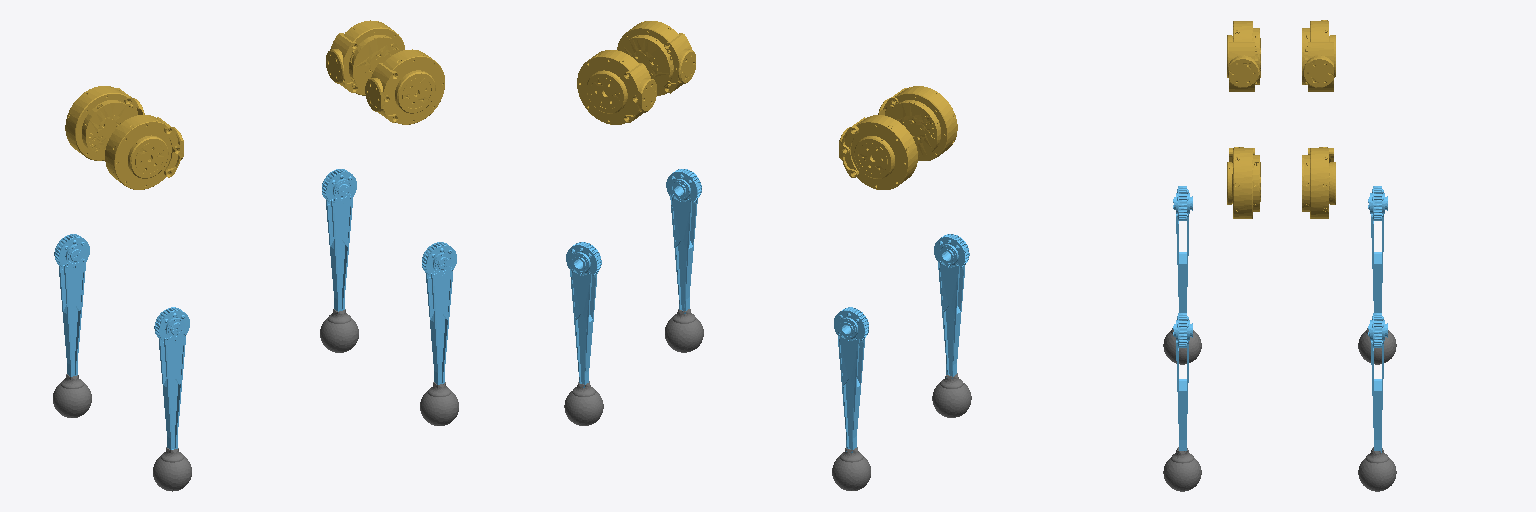
--- What the picture shows (computed from the rendered views, not written in the file) ---
Views: 3 orthographic renders of the robot side by side, from view 1: azimuth 30°, elevation 25°; view 2: azimuth 150°, elevation 25°; view 3: azimuth 270°, elevation 25°.
Robot: yobotics_description — 25 links, 24 joints (12 revolute, 12 fixed); root link trunk; default pose: every joint at zero.
Links seen in each view (by area): view 1: RR_hip, FR_hip, FL_hip, RL_hip, RR_calf, RL_calf, FR_calf, FL_calf, RR_foot, FL_foot, FR_foot, RL_foot; view 2: RL_hip, FL_hip, FR_hip, RR_hip, FR_calf, RL_calf, RR_calf, FL_calf, RR_foot, FL_foot, FR_foot, RL_foot; view 3: FL_hip, FR_hip, RL_hip, RR_hip, FL_calf, FR_calf, RL_calf, RR_calf, FR_foot, FL_foot, RR_foot, RL_foot.
Link boxes in pixels (x1,y1,x2,y2): RR_hip: [105, 115, 183, 189]; FR_hip: [365, 49, 444, 124]; FL_hip: [326, 20, 404, 95]; RL_hip: [65, 86, 144, 160]; RR_calf: [154, 307, 189, 449]; RL_calf: [54, 234, 89, 376]; FR_calf: [422, 242, 456, 384]; FL_calf: [322, 169, 356, 311]; RR_foot: [153, 447, 191, 491]; FL_foot: [320, 309, 358, 352]; FR_foot: [420, 382, 458, 425]; RL_foot: [53, 374, 91, 417]; RL_hip: [839, 115, 917, 189]; FL_hip: [577, 50, 656, 124]; FR_hip: [617, 21, 695, 95]; RR_hip: [878, 86, 957, 160]; FR_calf: [666, 169, 701, 313]; RL_calf: [834, 307, 868, 452]; RR_calf: [934, 234, 969, 378]; FL_calf: [566, 242, 601, 387]; RR_foot: [932, 373, 971, 417]; FL_foot: [564, 381, 603, 425]; FR_foot: [665, 309, 703, 352]; RL_foot: [832, 447, 870, 490]; FL_hip: [1302, 147, 1335, 218]; FR_hip: [1227, 147, 1260, 218]; RL_hip: [1302, 20, 1335, 91]; RR_hip: [1227, 21, 1260, 91]; FL_calf: [1368, 313, 1387, 452]; FR_calf: [1173, 313, 1192, 450]; RL_calf: [1368, 186, 1387, 312]; RR_calf: [1173, 186, 1192, 312]; FR_foot: [1163, 447, 1201, 491]; FL_foot: [1358, 447, 1396, 491]; RR_foot: [1163, 328, 1201, 364]; RL_foot: [1358, 328, 1396, 364].
Size in the robot's own frame: 0.4856 by 0.3042 by 0.4881 metres.
12 mesh visuals loaded from 7 distinct referenced files (3 binary STL); not drawn: 7 (reference not matched to a file when rendering).

URDF robot description (yobotics_description):
<?xml version="1.0" encoding="utf-8"?>
<!-- =================================================================================== -->
<!-- |    This document was autogenerated by xacro from ../xacro/robot.xacro           | -->
<!-- |    EDITING THIS FILE BY HAND IS NOT RECOMMENDED                                 | -->
<!-- =================================================================================== -->
<robot name="yobotics_description">
  <!-- joint limits -->
  <!-- <xacro:property name="damping" value="0"/>
    <xacro:property name="friction" value="0"/>
    <xacro:property name="hip_max" value="120"/>
    <xacro:property name="hip_min" value="-120"/>
    <xacro:property name="hip_velocity_max" value="52.4"/>
    <xacro:property name="hip_torque_max" value="20"/>
    <xacro:property name="thigh_max" value="270"/>
    <xacro:property name="thigh_min" value="-270"/>
    <xacro:property name="thigh_velocity_max" value="28.6"/>
    <xacro:property name="thigh_torque_max" value="55"/>
    <xacro:property name="calf_max" value="155"/>
    <xacro:property name="calf_min" value="-155"/>
    <xacro:property name="calf_velocity_max" value="28.6"/>
    <xacro:property name="calf_torque_max" value="55"/> -->
  <material name="black">
    <color rgba="0.0 0.0 0.0 1.0"/>
  </material>
  <material name="blue">
    <color rgba="0.0 0.0 0.8 1.0"/>
  </material>
  <material name="green">
    <color rgba="0.0 0.8 0.0 1.0"/>
  </material>
  <material name="grey">
    <color rgba="0.2 0.2 0.2 1.0"/>
  </material>
  <material name="silver">
    <color rgba="0.913725490196 0.913725490196 0.847058823529 1.0"/>
  </material>
  <material name="orange">
    <color rgba="1.0 0.423529411765 0.0392156862745 1.0"/>
  </material>
  <material name="brown">
    <color rgba="0.870588235294 0.811764705882 0.764705882353 1.0"/>
  </material>
  <material name="white_gray">
    <color rgba="0.823529411765 0.823529411765 0.823529411765 1.0"/>
  </material>
  <material name="gold">
    <color rgba="0.811764705882 0.678431372549 0.301960784314 1.0"/>
  </material>
  <material name="white_blue">
    <color rgba="0.462745098039 0.8 0.992156862745 1.0"/>
  </material>
  <material name="white_black">
    <color rgba="0.494117647059 0.494117647059 0.494117647059 1.0"/>
  </material>
  <material name="red">
    <color rgba="0.8 0.0 0.0 1.0"/>
  </material>
  <material name="white">
    <color rgba="1.0 1.0 1.0 1.0"/>
  </material>
  <!-- ros_control plugin -->
  <gazebo>
    <plugin filename="libgazebo_ros_control.so" name="gazebo_ros_control">
      <robotNamespace>/yobotics_gazebo</robotNamespace>
      <robotSimType>gazebo_ros_control/DefaultRobotHWSim</robotSimType>
    </plugin>
  </gazebo>
  <!-- Show the trajectory of trunk center. -->
  <gazebo>
    <plugin filename="libLinkPlot3DPlugin.so" name="3dplot">
      <frequency>10</frequency>
      <plot>
        <link>base</link>
        <pose>0 0 0 0 0 0</pose>
        <material>Gazebo/Yellow</material>
      </plot>
    </plugin>
  </gazebo>
  <gazebo>
    <plugin filename="libgazebo_ros_force.so" name="gazebo_ros_force">
      <bodyName>trunk</bodyName>
      <topicName>/apply_force/trunk</topicName>
    </plugin>
  </gazebo>
  <!-- <gazebo reference="imu_link">
        <gravity>true</gravity>
        <sensor name="_sensor" type="imu">
            <always_on>true</always_on>
            <update_rate>1000</update_rate>
            <visualize>true</visualize>
            <topic>__default_topic__</topic>
            <plugin filename="libgazebo_ros_imu_sensor.so" name="imu_plugin">
                <topicName>yobotic_imu</topicName>
                <bodyName>imu_link</bodyName>
                <updateRateHZ>1000.0</updateRateHZ>
                <gaussianNoise>0.0</gaussianNoise>
                <xyzOffset>0 0 0</xyzOffset>
                <rpyOffset>0 0 0</rpyOffset>
                <frameName>imu_link</frameName>
            </plugin>
            <pose>0 0 0 0 0 0</pose>
        </sensor>
    </gazebo> -->
  <gazebo>
    <plugin filename="libgazebo_ros_p3d.so" name="p3d_base_controller">
      <alwaysOn>true</alwaysOn>
      <updateRate>50.0</updateRate>
      <bodyName>trunk</bodyName>
      <topicName>yobotics_gazebo_ground_truth</topicName>
      <gaussianNoise>0.01</gaussianNoise>
      <frameName>world</frameName>
      <xyzOffsets>0 0 0</xyzOffsets>
      <rpyOffsets>0 0 0</rpyOffsets>
    </plugin>
  </gazebo>
  <gazebo>
    <plugin filename="libgazebo_ros_control.so" name="gazebo_ros_control">
      <legacyModeNS>true</legacyModeNS>
    </plugin>
  </gazebo>
  <!-- Foot contacts. -->
  <!-- <gazebo reference="FR_calf">
        <sensor name="FR_foot_contact" type="contact">
        <update_rate>100</update_rate>
        <plugin name="contactPlugin" filename="libyoboticsFootContactPlugin.so"/>
        <contact>
            <collision>FR_calf_fixed_joint_lump__FR_foot_collision_1</collision>
        </contact>
        </sensor>
    </gazebo>
    <gazebo reference="FL_calf">
        <sensor name="FL_foot_contact" type="contact">
        <update_rate>100</update_rate>
        <plugin name="contactPlugin" filename="libyoboticsFootContactPlugin.so"/>
        <contact>
            <collision>FL_calf_fixed_joint_lump__FL_foot_collision_1</collision>
        </contact>
        </sensor>
    </gazebo>
    <gazebo reference="RR_calf">
        <sensor name="RR_foot_contact" type="contact">
        <update_rate>100</update_rate>
        <plugin name="contactPlugin" filename="libyoboticsFootContactPlugin.so"/>
        <contact>
            <collision>RR_calf_fixed_joint_lump__RR_foot_collision_1</collision>
        </contact>
        </sensor>
    </gazebo>
    <gazebo reference="RL_calf">
        <sensor name="RL_foot_contact" type="contact">
        <update_rate>100</update_rate>
        <plugin name="contactPlugin" filename="libyoboticsFootContactPlugin.so"/>
        <contact>
            <collision>RL_calf_fixed_joint_lump__RL_foot_collision_1</collision>
        </contact>
        </sensor>
    </gazebo>   -->
  <!-- Visualization of Foot contacts. -->
  <!-- <gazebo reference="FR_foot">
        <visual>
            <plugin name="drawForcePlugin" filename="libyoboticsDrawForcePlugin.so">
                <topicName>FR_foot_contact</topicName>
            </plugin>
        </visual>
    </gazebo>
    <gazebo reference="FL_foot">
        <visual>
            <plugin name="drawForcePlugin" filename="libyoboticsDrawForcePlugin.so">
                <topicName>FL_foot_contact</topicName>
            </plugin>
        </visual>
    </gazebo>
    <gazebo reference="RR_foot">
        <visual>
            <plugin name="drawForcePlugin" filename="libyoboticsDrawForcePlugin.so">
                <topicName>RR_foot_contact</topicName>
            </plugin>
        </visual>
    </gazebo>
    <gazebo reference="RL_foot">
        <visual>
            <plugin name="drawForcePlugin" filename="libyoboticsDrawForcePlugin.so">
                <topicName>RL_foot_contact</topicName>
            </plugin>
        </visual>
    </gazebo>  -->
  <gazebo reference="base">
    <material>Gazebo/Green</material>
    <turnGravityOff>false</turnGravityOff>
  </gazebo>
  <gazebo reference="trunk">
    <mu1>0.9</mu1>
    <mu2>0.9</mu2>
    <kp value="1000000.0"/>
    <kd value="1.0"/>
  </gazebo>
  <gazebo reference="stick_link">
    <mu1>0.9</mu1>
    <mu2>0.9</mu2>
    <material>Gazebo/White</material>
  </gazebo>
  <gazebo reference="imu_link">
    <mu1>0.9</mu1>
    <mu2>0.9</mu2>
    <material>Gazebo/Red</material>
  </gazebo>
  <!-- FL leg -->
  <gazebo reference="FL_hip">
    <mu1>0.9</mu1>
    <mu2>0.9</mu2>
    <!-- <material>Gazebo/DarkGrey</material> -->
  </gazebo>
  <gazebo reference="FL_thigh">
    <mu1>0.9</mu1>
    <mu2>0.9</mu2>
    <self_collide>1</self_collide>
    <material>Gazebo/White</material>
    <kp value="1000000.0"/>
    <kd value="1.0"/>
  </gazebo>
  <gazebo reference="FL_calf">
    <mu1>0.9</mu1>
    <mu2>0.9</mu2>
    <self_collide>1</self_collide>
  </gazebo>
  <gazebo reference="FL_foot">
    <mu1>0.9</mu1>
    <mu2>0.9</mu2>
    <self_collide>1</self_collide>
    <material>Gazebo/DarkGrey</material>
    <kp value="1000000.0"/>
    <kd value="1.0"/>
  </gazebo>
  <!-- FR leg -->
  <gazebo reference="FR_hip">
    <mu1>0.9</mu1>
    <mu2>0.9</mu2>
    <!-- <material>Gazebo/DarkGrey</material> -->
  </gazebo>
  <gazebo reference="FR_thigh">
    <mu1>0.9</mu1>
    <mu2>0.9</mu2>
    <self_collide>1</self_collide>
    <material>Gazebo/White</material>
    <kp value="1000000.0"/>
    <kd value="1.0"/>
  </gazebo>
  <gazebo reference="FR_calf">
    <mu1>0.9</mu1>
    <mu2>0.9</mu2>
    <self_collide>1</self_collide>
  </gazebo>
  <gazebo reference="FR_foot">
    <mu1>0.9</mu1>
    <mu2>0.9</mu2>
    <self_collide>1</self_collide>
    <material>Gazebo/DarkGrey</material>
    <kp value="1000000.0"/>
    <kd value="1.0"/>
  </gazebo>
  <!-- RL leg -->
  <gazebo reference="RL_hip">
    <mu1>0.9</mu1>
    <mu2>0.9</mu2>
    <!-- <material>Gazebo/DarkGrey</material> -->
  </gazebo>
  <gazebo reference="RL_thigh">
    <mu1>0.9</mu1>
    <mu2>0.9</mu2>
    <self_collide>1</self_collide>
    <material>Gazebo/White</material>
    <kp value="1000000.0"/>
    <kd value="1.0"/>
  </gazebo>
  <gazebo reference="RL_calf">
    <mu1>0.9</mu1>
    <mu2>0.9</mu2>
    <self_collide>1</self_collide>
  </gazebo>
  <gazebo reference="RL_foot">
    <mu1>0.9</mu1>
    <mu2>0.9</mu2>
    <self_collide>1</self_collide>
    <material>Gazebo/DarkGrey</material>
    <kp value="1000000.0"/>
    <kd value="1.0"/>
  </gazebo>
  <!-- RR leg -->
  <gazebo reference="RR_hip">
    <mu1>0.9</mu1>
    <mu2>0.9</mu2>
    <!-- <material>Gazebo/Gold</material> -->
  </gazebo>
  <gazebo reference="RR_thigh">
    <mu1>0.9</mu1>
    <mu2>0.9</mu2>
    <self_collide>1</self_collide>
    <material>Gazebo/White</material>
    <kp value="1000000.0"/>
    <kd value="1.0"/>
  </gazebo>
  <gazebo reference="RR_calf">
    <mu1>0.9</mu1>
    <mu2>0.9</mu2>
    <self_collide>1</self_collide>
  </gazebo>
  <gazebo reference="RR_foot">
    <mu1>0.9</mu1>
    <mu2>0.9</mu2>
    <self_collide>1</self_collide>
    <material>Gazebo/DarkGrey</material>
    <kp value="1000000.0"/>
    <kd value="1.0"/>
  </gazebo>
  <!-- Debug mode will hung up the robot, use "true" or "false" to switch it. -->
  <!-- <link name="base_link">
        <visual>
            <origin rpy="0 0 0" xyz="0 0 0"/>
            <geometry>
                <box size="0.001 0.001 0.001"/>
            </geometry>
        </visual>
    </link>

    <joint name="floating_base" type="fixed">
        <origin rpy="0 0 0" xyz="0 0 0"/>
        <parent link="base_link"/>
        <child link="trunk"/>
    </joint> -->
  <link name="trunk"/>
  <link name="trunk_interia">
    <visual>
      <origin rpy="0 0 0" xyz="0 0 0"/>
      <geometry>
        <mesh filename="package://yobotics_description/meshes/trunk.STL" scale="1 1 1"/>
      </geometry>
      <material name="white_gray"/>
    </visual>
    <collision>
      <origin rpy="0 0 0" xyz="0 0 0"/>
      <geometry>
        <!-- <mesh filename="package://yobotics_description/meshes/trunk.STL" scale="1 1 1"/> -->
        <box size="0.3 0.2 0.093"/>
      </geometry>
    </collision>
    <inertial>
      <origin rpy="0 0 0" xyz="0.0 0.0 0.0"/>
      <mass value="3.3"/>
      <inertia ixx="0.011253" ixy="0" ixz="0.0" iyy="0.036203" iyz="-0.0" izz="0.042673"/>
    </inertial>
  </link>
  <joint name="trunk_to_trunk_inertia" type="fixed">
    <origin rpy="0 0 0" xyz="0 0 0"/>
    <parent link="trunk"/>
    <child link="trunk_interia"/>
  </joint>
  <!-- 
    <joint name="imu_joint" type="fixed">
        <parent link="trunk"/>
        <child link="imu_link"/>
        <origin rpy="0 0 0" xyz="0 0 0"/>
    </joint>

    <link name="imu_link">
        <inertial>
            <mass value="0.001"/>
            <origin rpy="0 0 0" xyz="0 0 0"/>
            <inertia ixx="0.0001" ixy="0" ixz="0" iyy="0.000001" iyz="0" izz="0.0001"/>
        </inertial>
        <visual>
            <origin rpy="0 0 0" xyz="0 0 0"/>
            <geometry>
                <box size="0.001 0.001 0.001"/>
            </geometry>
            <material name="red"/>
        </visual>
        <collision>
            <origin rpy="0 0 0" xyz="0 0 0"/>
            <geometry>
                <box size=".001 .001 .001"/>
            </geometry>
        </collision>
    </link> -->
  <!-- //////////////////////hip//////////////////// -->
  <joint name="RL_hip_joint" type="revolute">
    <!-- <joint name="${name}_hip_joint" type="continuous"> -->
    <origin rpy="0 0 0" xyz="-0.196 0.049664 0"/>
    <parent link="trunk"/>
    <child link="RL_hip"/>
    <axis xyz="1 0 0"/>
    <dynamics damping="0" friction="0"/>
    <limit effort="20" lower="-0.872664625997" upper="1.0471975512" velocity="10.6"/>
  </joint>
  <link name="RL_hip">
    <visual>
      <origin rpy="3.14159265359 0 0" xyz="0 0 0"/>
      <geometry>
        <mesh filename="package://yobotics_description/meshes/hip.STL" scale="1 1 1"/>
      </geometry>
      <material name="gold"/>
    </visual>
    <collision>
      <!-- <origin rpy="${PI/2.0} 0 0" xyz="0 0 0"/> -->
      <!-- <xacro:if value="${(mirror_dae == True) and (front_hind_dae == True)}">
                    <origin rpy="0 0 0" xyz="0 0 0"/>
                </xacro:if>
                <xacro:if value="${(mirror_dae == False) and (front_hind_dae == True)}">
                    <origin rpy="${PI} 0 0" xyz="0 0 0"/>
                </xacro:if>
                <xacro:if value="${(mirror_dae == True) and (front_hind_dae == False)}">
                    <origin rpy="0 ${PI} 0" xyz="0 0 0"/>
                </xacro:if>
                <xacro:if value="${(mirror_dae == False) and (front_hind_dae == False)}">
                    <origin rpy="${PI} ${PI} 0" xyz="0 0 0"/>
                </xacro:if> -->
      <geometry>
        <!-- <mesh filename="package://yobotics_description/meshes/hip.STL" scale="1 1 1"/> -->
        <box size="0.09 0.08 0.093"/>
      </geometry>
    </collision>
    <inertial>
      <origin rpy="0 0 0" xyz="0.0 -0.036 0.0"/>
      <mass value="0.57"/>
      <inertia ixx="0.0007148275" ixy="0.0" ixz="0.0" iyy="0.0007955775" iyz="0.0" izz="0.00068875"/>
    </inertial>
  </link>
  <!-- //////////////////////thigh//////////////////// -->
  <joint name="RL_thigh_joint" type="revolute">
    <!-- <joint name="${name}_thigh_joint" type="continuous"> -->
    <origin rpy="0 0 0" xyz="0 0.077476 0"/>
    <parent link="RL_hip"/>
    <child link="RL_thigh"/>
    <axis xyz="0 1 0"/>
    <dynamics damping="0" friction="0"/>
    <limit effort="20" lower="-0.523598775598" upper="3.92699081699" velocity="10.6"/>
  </joint>
  <link name="RL_thigh">
    <visual>
      <origin rpy="3.14159265359 3.14159265359 0" xyz="0 0 0"/>
      <geometry>
        <mesh filename="package://yobotics_description/meshes/thigh.STL" scale="1 1 1"/>
      </geometry>
      <material name="white_blue"/>
    </visual>
    <collision>
      <!-- <xacro:if value="${mirror_dae == True}">
                    <origin rpy="0 0 0" xyz="0 0 0"/>                 
                </xacro:if>
                <xacro:if value="${mirror_dae == False}">
                    <origin rpy="${PI} ${PI} 0" xyz="0 0 0"/>
                </xacro:if> -->
      <origin rpy="0 0 0" xyz="0 0 -0.11"/>
      <geometry>
        <box size="0.043 0.034 0.22"/>
        <!-- <mesh filename="package://yobotics_description/meshes/thigh.STL" scale="1 1 1"/> -->
      </geometry>
      <material name="white_blue"/>
    </collision>
    <inertial>
      <origin rpy="0 0 0" xyz="0.0 -0.016 -0.11"/>
      <mass value="0.634"/>
      <inertia ixx="0.00261820866667" ixy="0.0" ixz="0.0" iyy="0.00265482216667" iyz="0.0" izz="0.000158764166667"/>
    </inertial>
  </link>
  <!-- //////////////////////calf//////////////////// -->
  <joint name="RL_calf_joint" type="revolute">
    <!-- <joint name="${name}_calf_joint" type="continuous"> -->
    <origin rpy="0 0 0" xyz="0 0 -0.2115"/>
    <parent link="RL_thigh"/>
    <child link="RL_calf"/>
    <axis xyz="0 1 0"/>
    <dynamics damping="0" friction="0"/>
    <!-- <limit effort="${calf_torque_max}" velocity="${calf_velocity_max}" lower="${calf_min*PI/180.0}" upper="${calf_max*PI/180.0}"/> -->
    <limit effort="20" lower="-3.14159265359" upper="3.14159265359" velocity="10.6"/>
  </joint>
  <link name="RL_calf">
    <visual>
      <origin rpy="0 0 0" xyz="0.0 0.009 0.0"/>
      <geometry>
        <mesh filename="package://yobotics_description/meshes/calf.STL" scale="1 1 1"/>
      </geometry>
      <material name="white_blue"/>
    </visual>
    <collision>
      <origin rpy="0 0 0" xyz="0.0 0.0 -0.1"/>
      <geometry>
        <box size="0.016 0.016 0.2"/>
        <!-- <mesh filename="package://yobotics_description/meshes/calf.STL" scale="1 1 1"/> -->
      </geometry>
    </collision>
    <inertial>
      <origin rpy="0 0 0" xyz="0.0 0.0 0.0"/>
      <mass value="0.064"/>
      <inertia ixx="0.000214698666667" ixy="0.0" ixz="0.0" iyy="0.000214698666667" iyz="0.0" izz="2.73066666667e-06"/>
    </inertial>
  </link>
  <!-- //////////////////////foot//////////////////// -->
  <joint name="RL_foot_fixed" type="fixed">
    <origin rpy="0 0 0" xyz="0 0 -0.23039"/>
    <parent link="RL_calf"/>
    <child link="RL_foot"/>
  </joint>
  <link name="RL_foot">
    <visual>
      <origin rpy="0 0 0" xyz="0 0.018 0.02"/>
      <geometry>
        <mesh filename="package://yobotics_description/meshes/foot.STL" scale="1 1 1"/>
      </geometry>
      <material name="white_black"/>
    </visual>
    <collision>
      <origin rpy="0 0 0" xyz="0 0.0 0.025"/>
      <geometry>
        <!-- <mesh filename="package://yobotics_description/meshes/foot.STL" scale="1 1 1"/> -->
        <sphere radius="0.025"/>
      </geometry>
    </collision>
    <inertial>
      <origin rpy="0 0 0" xyz="0.0 0.0 0"/>
      <mass value="0.15"/>
      <inertia ixx="4.2135e-05" ixy="0.0" ixz="0.0" iyy="4.2135e-05" iyz="0.0" izz="4.2135e-05"/>
    </inertial>
  </link>
  <transmission name="RL_hip_tran">
    <type>transmission_interface/SimpleTransmission</type>
    <joint name="RL_hip_joint">
      <hardwareInterface>hardware_interface/EffortJointInterface</hardwareInterface>
    </joint>
    <actuator name="RL_hip_motor">
      <hardwareInterface>hardware_interface/EffortJointInterface</hardwareInterface>
      <mechanicalReduction>1</mechanicalReduction>
    </actuator>
  </transmission>
  <transmission name="RL_thigh_tran">
    <type>transmission_interface/SimpleTransmission</type>
    <joint name="RL_thigh_joint">
      <hardwareInterface>hardware_interface/EffortJointInterface</hardwareInterface>
    </joint>
    <actuator name="RL_thigh_motor">
      <hardwareInterface>hardware_interface/EffortJointInterface</hardwareInterface>
      <mechanicalReduction>1</mechanicalReduction>
    </actuator>
  </transmission>
  <transmission name="RL_calf_tran">
    <type>transmission_interface/SimpleTransmission</type>
    <joint name="RL_calf_joint">
      <hardwareInterface>hardware_interface/EffortJointInterface</hardwareInterface>
    </joint>
    <actuator name="RL_calf_motor">
      <hardwareInterface>hardware_interface/EffortJointInterface</hardwareInterface>
      <mechanicalReduction>1</mechanicalReduction>
    </actuator>
  </transmission>
  <!-- //////////////////////hip//////////////////// -->
  <joint name="FL_hip_joint" type="revolute">
    <!-- <joint name="${name}_hip_joint" type="continuous"> -->
    <origin rpy="0 0 0" xyz="0.196 0.049664 0"/>
    <parent link="trunk"/>
    <child link="FL_hip"/>
    <axis xyz="1 0 0"/>
    <dynamics damping="0" friction="0"/>
    <limit effort="20" lower="-0.872664625997" upper="1.0471975512" velocity="10.6"/>
  </joint>
  <link name="FL_hip">
    <visual>
      <origin rpy="3.14159265359 3.14159265359 0" xyz="0 0 0"/>
      <geometry>
        <mesh filename="package://yobotics_description/meshes/hip.STL" scale="1 1 1"/>
      </geometry>
      <material name="gold"/>
    </visual>
    <collision>
      <!-- <origin rpy="${PI/2.0} 0 0" xyz="0 0 0"/> -->
      <!-- <xacro:if value="${(mirror_dae == True) and (front_hind_dae == True)}">
                    <origin rpy="0 0 0" xyz="0 0 0"/>
                </xacro:if>
                <xacro:if value="${(mirror_dae == False) and (front_hind_dae == True)}">
                    <origin rpy="${PI} 0 0" xyz="0 0 0"/>
                </xacro:if>
                <xacro:if value="${(mirror_dae == True) and (front_hind_dae == False)}">
                    <origin rpy="0 ${PI} 0" xyz="0 0 0"/>
                </xacro:if>
                <xacro:if value="${(mirror_dae == False) and (front_hind_dae == False)}">
                    <origin rpy="${PI} ${PI} 0" xyz="0 0 0"/>
                </xacro:if> -->
      <geometry>
        <!-- <mesh filename="package://yobotics_description/meshes/hip.STL" scale="1 1 1"/> -->
        <box size="0.09 0.08 0.093"/>
      </geometry>
    </collision>
    <inertial>
      <origin rpy="0 0 0" xyz="-0.0 -0.036 0.0"/>
      <mass value="0.57"/>
      <inertia ixx="0.0007148275" ixy="0.0" ixz="0.0" iyy="0.0007955775" iyz="0.0" izz="0.00068875"/>
    </inertial>
  </link>
  <!-- //////////////////////thigh//////////////////// -->
  <joint name="FL_thigh_joint" type="revolute">
    <!-- <joint name="${name}_thigh_joint" type="continuous"> -->
    <origin rpy="0 0 0" xyz="0 0.077476 0"/>
    <parent link="FL_hip"/>
    <child link="FL_thigh"/>
    <axis xyz="0 1 0"/>
    <dynamics damping="0" friction="0"/>
    <limit effort="20" lower="-0.523598775598" upper="3.92699081699" velocity="10.6"/>
  </joint>
  <link name="FL_thigh">
    <visual>
      <origin rpy="3.14159265359 3.14159265359 0" xyz="0 0 0"/>
      <geometry>
        <mesh filename="package://yobotics_description/meshes/thigh.STL" scale="1 1 1"/>
      </geometry>
      <material name="white_blue"/>
    </visual>
    <collision>
      <!-- <xacro:if value="${mirror_dae == True}">
                    <origin rpy="0 0 0" xyz="0 0 0"/>                 
                </xacro:if>
                <xacro:if value="${mirror_dae == False}">
                    <origin rpy="${PI} ${PI} 0" xyz="0 0 0"/>
                </xacro:if> -->
      <origin rpy="0 0 0" xyz="0 0 -0.11"/>
      <geometry>
        <box size="0.043 0.034 0.22"/>
        <!-- <mesh filename="package://yobotics_description/meshes/thigh.STL" scale="1 1 1"/> -->
      </geometry>
      <material name="white_blue"/>
    </collision>
    <inertial>
      <origin rpy="0 0 0" xyz="0.0 -0.016 -0.11"/>
      <mass value="0.634"/>
      <inertia ixx="0.00261820866667" ixy="0.0" ixz="0.0" iyy="0.00265482216667" iyz="0.0" izz="0.000158764166667"/>
    </inertial>
  </link>
  <!-- //////////////////////calf//////////////////// -->
  <joint name="FL_calf_joint" type="revolute">
    <!-- <joint name="${name}_calf_joint" type="continuous"> -->
    <origin rpy="0 0 0" xyz="0 0 -0.2115"/>
    <parent link="FL_thigh"/>
    <child link="FL_calf"/>
    <axis xyz="0 1 0"/>
    <dynamics damping="0" friction="0"/>
    <!-- <limit effort="${calf_torque_max}" velocity="${calf_velocity_max}" lower="${calf_min*PI/180.0}" upper="${calf_max*PI/180.0}"/> -->
    <limit effort="20" lower="-3.14159265359" upper="3.14159265359" velocity="10.6"/>
  </joint>
  <link name="FL_calf">
    <visual>
      <origin rpy="0 0 0" xyz="0.0 0.009 0.0"/>
      <geometry>
        <mesh filename="package://yobotics_description/meshes/calf.STL" scale="1 1 1"/>
      </geometry>
      <material name="white_blue"/>
    </visual>
    <collision>
      <origin rpy="0 0 0" xyz="0.0 0.0 -0.1"/>
      <geometry>
        <box size="0.016 0.016 0.2"/>
        <!-- <mesh filename="package://yobotics_description/meshes/calf.STL" scale="1 1 1"/> -->
      </geometry>
    </collision>
    <inertial>
      <origin rpy="0 0 0" xyz="0.0 0.0 0.0"/>
      <mass value="0.064"/>
      <inertia ixx="0.000214698666667" ixy="0.0" ixz="0.0" iyy="0.000214698666667" iyz="0.0" izz="2.73066666667e-06"/>
    </inertial>
  </link>
  <!-- //////////////////////foot//////////////////// -->
  <joint name="FL_foot_fixed" type="fixed">
    <origin rpy="0 0 0" xyz="0 0 -0.23039"/>
    <parent link="FL_calf"/>
    <child link="FL_foot"/>
  </joint>
  <link name="FL_foot">
    <visual>
      <origin rpy="0 0 0" xyz="0 0.018 0.02"/>
      <geometry>
        <mesh filename="package://yobotics_description/meshes/foot.STL" scale="1 1 1"/>
      </geometry>
      <material name="white_black"/>
    </visual>
    <collision>
      <origin rpy="0 0 0" xyz="0 0.0 0.025"/>
      <geometry>
        <!-- <mesh filename="package://yobotics_description/meshes/foot.STL" scale="1 1 1"/> -->
        <sphere radius="0.025"/>
      </geometry>
    </collision>
    <inertial>
      <origin rpy="0 0 0" xyz="0.0 0.0 0"/>
      <mass value="0.15"/>
      <inertia ixx="4.2135e-05" ixy="0.0" ixz="0.0" iyy="4.2135e-05" iyz="0.0" izz="4.2135e-05"/>
    </inertial>
  </link>
  <transmission name="FL_hip_tran">
    <type>transmission_interface/SimpleTransmission</type>
    <joint name="FL_hip_joint">
      <hardwareInterface>hardware_interface/EffortJointInterface</hardwareInterface>
    </joint>
    <actuator name="FL_hip_motor">
      <hardwareInterface>hardware_interface/EffortJointInterface</hardwareInterface>
      <mechanicalReduction>1</mechanicalReduction>
    </actuator>
  </transmission>
  <transmission name="FL_thigh_tran">
    <type>transmission_interface/SimpleTransmission</type>
    <joint name="FL_thigh_joint">
      <hardwareInterface>hardware_interface/EffortJointInterface</hardwareInterface>
    </joint>
    <actuator name="FL_thigh_motor">
      <hardwareInterface>hardware_interface/EffortJointInterface</hardwareInterface>
      <mechanicalReduction>1</mechanicalReduction>
    </actuator>
  </transmission>
  <transmission name="FL_calf_tran">
    <type>transmission_interface/SimpleTransmission</type>
    <joint name="FL_calf_joint">
      <hardwareInterface>hardware_interface/EffortJointInterface</hardwareInterface>
    </joint>
    <actuator name="FL_calf_motor">
      <hardwareInterface>hardware_interface/EffortJointInterface</hardwareInterface>
      <mechanicalReduction>1</mechanicalReduction>
    </actuator>
  </transmission>
  <!-- //////////////////////hip//////////////////// -->
  <joint name="RR_hip_joint" type="revolute">
    <!-- <joint name="${name}_hip_joint" type="continuous"> -->
    <origin rpy="0 0 0" xyz="-0.196 -0.049664 0"/>
    <parent link="trunk"/>
    <child link="RR_hip"/>
    <axis xyz="1 0 0"/>
    <dynamics damping="0" friction="0"/>
    <limit effort="20" lower="-1.0471975512" upper="0.872664625997" velocity="10.6"/>
  </joint>
  <link name="RR_hip">
    <visual>
      <origin rpy="0 0 0" xyz="0 0 0"/>
      <geometry>
        <mesh filename="package://yobotics_description/meshes/hip.STL" scale="1 1 1"/>
      </geometry>
      <material name="gold"/>
    </visual>
    <collision>
      <!-- <origin rpy="${PI/2.0} 0 0" xyz="0 0 0"/> -->
      <!-- <xacro:if value="${(mirror_dae == True) and (front_hind_dae == True)}">
                    <origin rpy="0 0 0" xyz="0 0 0"/>
                </xacro:if>
                <xacro:if value="${(mirror_dae == False) and (front_hind_dae == True)}">
                    <origin rpy="${PI} 0 0" xyz="0 0 0"/>
                </xacro:if>
                <xacro:if value="${(mirror_dae == True) and (front_hind_dae == False)}">
                    <origin rpy="0 ${PI} 0" xyz="0 0 0"/>
                </xacro:if>
                <xacro:if value="${(mirror_dae == False) and (front_hind_dae == False)}">
                    <origin rpy="${PI} ${PI} 0" xyz="0 0 0"/>
                </xacro:if> -->
      <geometry>
        <!-- <mesh filename="package://yobotics_description/meshes/hip.STL" scale="1 1 1"/> -->
        <box size="0.09 0.08 0.093"/>
      </geometry>
    </collision>
    <inertial>
      <origin rpy="0 0 0" xyz="0.0 0.036 0.0"/>
      <mass value="0.57"/>
      <inertia ixx="0.0007148275" ixy="0.0" ixz="0.0" iyy="0.0007955775" iyz="0.0" izz="0.00068875"/>
    </inertial>
  </link>
  <!-- //////////////////////thigh//////////////////// -->
  <joint name="RR_thigh_joint" type="revolute">
    <!-- <joint name="${name}_thigh_joint" type="continuous"> -->
    <origin rpy="0 0 0" xyz="0 -0.077476 0"/>
    <parent link="RR_hip"/>
    <child link="RR_thigh"/>
    <axis xyz="0 1 0"/>
    <dynamics damping="0" friction="0"/>
    <limit effort="20" lower="-0.523598775598" upper="3.92699081699" velocity="10.6"/>
  </joint>
  <link name="RR_thigh">
    <visual>
      <origin rpy="0 0 0" xyz="0 0 0"/>
      <geometry>
        <mesh filename="package://yobotics_description/meshes/thigh.STL" scale="1 1 1"/>
      </geometry>
      <material name="white_blue"/>
    </visual>
    <collision>
      <!-- <xacro:if value="${mirror_dae == True}">
                    <origin rpy="0 0 0" xyz="0 0 0"/>                 
                </xacro:if>
                <xacro:if value="${mirror_dae == False}">
                    <origin rpy="${PI} ${PI} 0" xyz="0 0 0"/>
                </xacro:if> -->
      <origin rpy="0 0 0" xyz="0 0 -0.11"/>
      <geometry>
        <box size="0.043 0.034 0.22"/>
        <!-- <mesh filename="package://yobotics_description/meshes/thigh.STL" scale="1 1 1"/> -->
      </geometry>
      <material name="white_blue"/>
    </collision>
    <inertial>
      <origin rpy="0 0 0" xyz="0.0 0.016 -0.11"/>
      <mass value="0.634"/>
      <inertia ixx="0.00261820866667" ixy="0.0" ixz="0.0" iyy="0.00265482216667" iyz="0.0" izz="0.000158764166667"/>
    </inertial>
  </link>
  <!-- //////////////////////calf//////////////////// -->
  <joint name="RR_calf_joint" type="revolute">
    <!-- <joint name="${name}_calf_joint" type="continuous"> -->
    <origin rpy="0 0 0" xyz="0 0 -0.2115"/>
    <parent link="RR_thigh"/>
    <child link="RR_calf"/>
    <axis xyz="0 1 0"/>
    <dynamics damping="0" friction="0"/>
    <!-- <limit effort="${calf_torque_max}" velocity="${calf_velocity_max}" lower="${calf_min*PI/180.0}" upper="${calf_max*PI/180.0}"/> -->
    <limit effort="20" lower="-3.14159265359" upper="3.14159265359" velocity="10.6"/>
  </joint>
  <link name="RR_calf">
    <visual>
      <origin rpy="0 0 0" xyz="0.0 0.009 0.0"/>
      <geometry>
        <mesh filename="package://yobotics_description/meshes/calf.STL" scale="1 1 1"/>
      </geometry>
      <material name="white_blue"/>
    </visual>
    <collision>
      <origin rpy="0 0 0" xyz="0.0 0.0 -0.1"/>
      <geometry>
        <box size="0.016 0.016 0.2"/>
        <!-- <mesh filename="package://yobotics_description/meshes/calf.STL" scale="1 1 1"/> -->
      </geometry>
    </collision>
    <inertial>
      <origin rpy="0 0 0" xyz="0.0 0.0 0.0"/>
      <mass value="0.064"/>
      <inertia ixx="0.000214698666667" ixy="0.0" ixz="0.0" iyy="0.000214698666667" iyz="0.0" izz="2.73066666667e-06"/>
    </inertial>
  </link>
  <!-- //////////////////////foot//////////////////// -->
  <joint name="RR_foot_fixed" type="fixed">
    <origin rpy="0 0 0" xyz="0 0 -0.23039"/>
    <parent link="RR_calf"/>
    <child link="RR_foot"/>
  </joint>
  <link name="RR_foot">
    <visual>
      <origin rpy="0 0 0" xyz="0 0.018 0.02"/>
      <geometry>
        <mesh filename="package://yobotics_description/meshes/foot.STL" scale="1 1 1"/>
      </geometry>
      <material name="white_black"/>
    </visual>
    <collision>
      <origin rpy="0 0 0" xyz="0 0.0 0.025"/>
      <geometry>
        <!-- <mesh filename="package://yobotics_description/meshes/foot.STL" scale="1 1 1"/> -->
        <sphere radius="0.025"/>
      </geometry>
    </collision>
    <inertial>
      <origin rpy="0 0 0" xyz="0.0 0.0 0"/>
      <mass value="0.15"/>
      <inertia ixx="4.2135e-05" ixy="0.0" ixz="0.0" iyy="4.2135e-05" iyz="0.0" izz="4.2135e-05"/>
    </inertial>
  </link>
  <transmission name="RR_hip_tran">
    <type>transmission_interface/SimpleTransmission</type>
    <joint name="RR_hip_joint">
      <hardwareInterface>hardware_interface/EffortJointInterface</hardwareInterface>
    </joint>
    <actuator name="RR_hip_motor">
      <hardwareInterface>hardware_interface/EffortJointInterface</hardwareInterface>
      <mechanicalReduction>1</mechanicalReduction>
    </actuator>
  </transmission>
  <transmission name="RR_thigh_tran">
    <type>transmission_interface/SimpleTransmission</type>
    <joint name="RR_thigh_joint">
      <hardwareInterface>hardware_interface/EffortJointInterface</hardwareInterface>
    </joint>
    <actuator name="RR_thigh_motor">
      <hardwareInterface>hardware_interface/EffortJointInterface</hardwareInterface>
      <mechanicalReduction>1</mechanicalReduction>
    </actuator>
  </transmission>
  <transmission name="RR_calf_tran">
    <type>transmission_interface/SimpleTransmission</type>
    <joint name="RR_calf_joint">
      <hardwareInterface>hardware_interface/EffortJointInterface</hardwareInterface>
    </joint>
    <actuator name="RR_calf_motor">
      <hardwareInterface>hardware_interface/EffortJointInterface</hardwareInterface>
      <mechanicalReduction>1</mechanicalReduction>
    </actuator>
  </transmission>
  <!-- //////////////////////hip//////////////////// -->
  <joint name="FR_hip_joint" type="revolute">
    <!-- <joint name="${name}_hip_joint" type="continuous"> -->
    <origin rpy="0 0 0" xyz="0.196 -0.049664 0"/>
    <parent link="trunk"/>
    <child link="FR_hip"/>
    <axis xyz="1 0 0"/>
    <dynamics damping="0" friction="0"/>
    <limit effort="20" lower="-1.0471975512" upper="0.872664625997" velocity="10.6"/>
  </joint>
  <link name="FR_hip">
    <visual>
      <origin rpy="0 3.14159265359 0" xyz="0 0 0"/>
      <geometry>
        <mesh filename="package://yobotics_description/meshes/hip.STL" scale="1 1 1"/>
      </geometry>
      <material name="gold"/>
    </visual>
    <collision>
      <!-- <origin rpy="${PI/2.0} 0 0" xyz="0 0 0"/> -->
      <!-- <xacro:if value="${(mirror_dae == True) and (front_hind_dae == True)}">
                    <origin rpy="0 0 0" xyz="0 0 0"/>
                </xacro:if>
                <xacro:if value="${(mirror_dae == False) and (front_hind_dae == True)}">
                    <origin rpy="${PI} 0 0" xyz="0 0 0"/>
                </xacro:if>
                <xacro:if value="${(mirror_dae == True) and (front_hind_dae == False)}">
                    <origin rpy="0 ${PI} 0" xyz="0 0 0"/>
                </xacro:if>
                <xacro:if value="${(mirror_dae == False) and (front_hind_dae == False)}">
                    <origin rpy="${PI} ${PI} 0" xyz="0 0 0"/>
                </xacro:if> -->
      <geometry>
        <!-- <mesh filename="package://yobotics_description/meshes/hip.STL" scale="1 1 1"/> -->
        <box size="0.09 0.08 0.093"/>
      </geometry>
    </collision>
    <inertial>
      <origin rpy="0 0 0" xyz="-0.0 0.036 0.0"/>
      <mass value="0.57"/>
      <inertia ixx="0.0007148275" ixy="0.0" ixz="0.0" iyy="0.0007955775" iyz="0.0" izz="0.00068875"/>
    </inertial>
  </link>
  <!-- //////////////////////thigh//////////////////// -->
  <joint name="FR_thigh_joint" type="revolute">
    <!-- <joint name="${name}_thigh_joint" type="continuous"> -->
    <origin rpy="0 0 0" xyz="0 -0.077476 0"/>
    <parent link="FR_hip"/>
    <child link="FR_thigh"/>
    <axis xyz="0 1 0"/>
    <dynamics damping="0" friction="0"/>
    <limit effort="20" lower="-0.523598775598" upper="3.92699081699" velocity="10.6"/>
  </joint>
  <link name="FR_thigh">
    <visual>
      <origin rpy="0 0 0" xyz="0 0 0"/>
      <geometry>
        <mesh filename="package://yobotics_description/meshes/thigh.STL" scale="1 1 1"/>
      </geometry>
      <material name="white_blue"/>
    </visual>
    <collision>
      <!-- <xacro:if value="${mirror_dae == True}">
                    <origin rpy="0 0 0" xyz="0 0 0"/>                 
                </xacro:if>
                <xacro:if value="${mirror_dae == False}">
                    <origin rpy="${PI} ${PI} 0" xyz="0 0 0"/>
                </xacro:if> -->
      <origin rpy="0 0 0" xyz="0 0 -0.11"/>
      <geometry>
        <box size="0.043 0.034 0.22"/>
        <!-- <mesh filename="package://yobotics_description/meshes/thigh.STL" scale="1 1 1"/> -->
      </geometry>
      <material name="white_blue"/>
    </collision>
    <inertial>
      <origin rpy="0 0 0" xyz="0.0 0.016 -0.11"/>
      <mass value="0.634"/>
      <inertia ixx="0.00261820866667" ixy="0.0" ixz="0.0" iyy="0.00265482216667" iyz="0.0" izz="0.000158764166667"/>
    </inertial>
  </link>
  <!-- //////////////////////calf//////////////////// -->
  <joint name="FR_calf_joint" type="revolute">
    <!-- <joint name="${name}_calf_joint" type="continuous"> -->
    <origin rpy="0 0 0" xyz="0 0 -0.2115"/>
    <parent link="FR_thigh"/>
    <child link="FR_calf"/>
    <axis xyz="0 1 0"/>
    <dynamics damping="0" friction="0"/>
    <!-- <limit effort="${calf_torque_max}" velocity="${calf_velocity_max}" lower="${calf_min*PI/180.0}" upper="${calf_max*PI/180.0}"/> -->
    <limit effort="20" lower="-3.14159265359" upper="3.14159265359" velocity="10.6"/>
  </joint>
  <link name="FR_calf">
    <visual>
      <origin rpy="0 0 0" xyz="0.0 0.009 0.0"/>
      <geometry>
        <mesh filename="package://yobotics_description/meshes/calf.STL" scale="1 1 1"/>
      </geometry>
      <material name="white_blue"/>
    </visual>
    <collision>
      <origin rpy="0 0 0" xyz="0.0 0.0 -0.1"/>
      <geometry>
        <box size="0.016 0.016 0.2"/>
        <!-- <mesh filename="package://yobotics_description/meshes/calf.STL" scale="1 1 1"/> -->
      </geometry>
    </collision>
    <inertial>
      <origin rpy="0 0 0" xyz="0.0 0.0 0.0"/>
      <mass value="0.064"/>
      <inertia ixx="0.000214698666667" ixy="0.0" ixz="0.0" iyy="0.000214698666667" iyz="0.0" izz="2.73066666667e-06"/>
    </inertial>
  </link>
  <!-- //////////////////////foot//////////////////// -->
  <joint name="FR_foot_fixed" type="fixed">
    <origin rpy="0 0 0" xyz="0 0 -0.23039"/>
    <parent link="FR_calf"/>
    <child link="FR_foot"/>
  </joint>
  <link name="FR_foot">
    <visual>
      <origin rpy="0 0 0" xyz="0 0.018 0.02"/>
      <geometry>
        <mesh filename="package://yobotics_description/meshes/foot.STL" scale="1 1 1"/>
      </geometry>
      <material name="white_black"/>
    </visual>
    <collision>
      <origin rpy="0 0 0" xyz="0 0.0 0.025"/>
      <geometry>
        <!-- <mesh filename="package://yobotics_description/meshes/foot.STL" scale="1 1 1"/> -->
        <sphere radius="0.025"/>
      </geometry>
    </collision>
    <inertial>
      <origin rpy="0 0 0" xyz="0.0 0.0 0"/>
      <mass value="0.15"/>
      <inertia ixx="4.2135e-05" ixy="0.0" ixz="0.0" iyy="4.2135e-05" iyz="0.0" izz="4.2135e-05"/>
    </inertial>
  </link>
  <transmission name="FR_hip_tran">
    <type>transmission_interface/SimpleTransmission</type>
    <joint name="FR_hip_joint">
      <hardwareInterface>hardware_interface/EffortJointInterface</hardwareInterface>
    </joint>
    <actuator name="FR_hip_motor">
      <hardwareInterface>hardware_interface/EffortJointInterface</hardwareInterface>
      <mechanicalReduction>1</mechanicalReduction>
    </actuator>
  </transmission>
  <transmission name="FR_thigh_tran">
    <type>transmission_interface/SimpleTransmission</type>
    <joint name="FR_thigh_joint">
      <hardwareInterface>hardware_interface/EffortJointInterface</hardwareInterface>
    </joint>
    <actuator name="FR_thigh_motor">
      <hardwareInterface>hardware_interface/EffortJointInterface</hardwareInterface>
      <mechanicalReduction>1</mechanicalReduction>
    </actuator>
  </transmission>
  <transmission name="FR_calf_tran">
    <type>transmission_interface/SimpleTransmission</type>
    <joint name="FR_calf_joint">
      <hardwareInterface>hardware_interface/EffortJointInterface</hardwareInterface>
    </joint>
    <actuator name="FR_calf_motor">
      <hardwareInterface>hardware_interface/EffortJointInterface</hardwareInterface>
      <mechanicalReduction>1</mechanicalReduction>
    </actuator>
  </transmission>
  <joint name="hokuyo_joint" type="fixed">
    <origin rpy="0 0 0" xyz="0.0 0.0 0.093"/>
    <parent link="trunk"/>
    <child link="hokuyo_frame"/>
  </joint>
  <link name="hokuyo_frame">
    <inertial>
      <mass value="0.270"/>
      <origin rpy="0 0 0" xyz="0 0 0"/>
      <inertia ixx="2.632e-4" ixy="0" ixz="0" iyy="2.632e-4" iyz="0" izz="1.62e-4"/>
    </inertial>
    <visual>
      <origin rpy="0 0 0" xyz="0 0 0"/>
      <geometry>
        <mesh filename="package://hector_sensors_description/meshes/hokuyo_utm30lx/hokuyo_utm_30lx.dae"/>
      </geometry>
    </visual>
    <collision>
      <origin rpy="0 0 0" xyz="0 0 -0.0115"/>
      <geometry>
        <box size="0.058 0.058 0.087"/>
        <!--<mesh filename="package://hector_sensors_description/meshes/hokuyo_utm30lx/hokuyo_utm_30lx.stl"/>-->
      </geometry>
    </collision>
  </link>
  <gazebo reference="hokuyo_frame">
    <sensor name="hokuyo" type="ray">
      <always_on>true</always_on>
      <update_rate>30</update_rate>
      <pose>0 0 0 0 0 0</pose>
      <visualize>false</visualize>
      <ray>
        <scan>
          <horizontal>
            <samples>1040</samples>
            <resolution>1</resolution>
            <min_angle>2.26892802759</min_angle>
            <max_angle>-2.26892802759</max_angle>
          </horizontal>
        </scan>
        <range>
          <min>0.2</min>
          <max>30.0</max>
          <resolution>0.01</resolution>
        </range>
        <noise>
          <type>gaussian</type>
          <mean>0.0</mean>
          <stddev>0.004</stddev>
        </noise>
      </ray>
      <plugin filename="libgazebo_ros_laser.so" name="gazebo_ros_hokuyo_controller">
        <topicName>scan</topicName>
        <frameName>hokuyo_frame</frameName>
      </plugin>
    </sensor>
  </gazebo>
  <gazebo reference="hokuyo_frame">
    <material>Gazebo/FlatBlack</material>
  </gazebo>
  <joint name="camera_joint" type="fixed">
    <origin rpy="0 0.261799612195482 0" xyz="0.1 0.0 -0.06"/>
    <parent link="trunk"/>
    <child link="camera_link"/>
  </joint>
  <link name="camera_link">
    <inertial>
      <mass value="0.200"/>
      <origin rpy="0 0 0" xyz="0 0 0"/>
      <inertia ixx="5.8083e-4" ixy="0" ixz="0" iyy="3.0833e-5" iyz="0" izz="5.9083e-4"/>
    </inertial>
    <visual>
      <origin rpy="0 0 0" xyz="0 0 0"/>
      <geometry>
        <mesh filename="package://hector_sensors_description/meshes/asus_camera/asus_camera_simple.dae"/>
      </geometry>
    </visual>
    <!--        
       <collision>
          <origin xyz="0 0 0" rpy="0 0 0" />
          <geometry>
            <box size="0.035 0.185 0.025"/>
          </geometry>
        </collision>
        -->
    <collision>
      <origin rpy="0 0 0" xyz="0 0 0"/>
      <geometry>
        <mesh filename="package://hector_sensors_description/meshes/asus_camera/asus_camera_simple.dae"/>
      </geometry>
    </collision>
  </link>
  <joint name="camera_depth_joint" type="fixed">
    <origin rpy="0 0 0" xyz="0.0 0.049 0.0"/>
    <parent link="camera_link"/>
    <child link="camera_depth_frame"/>
  </joint>
  <link name="camera_depth_frame"/>
  <joint name="camera_depth_optical_joint" type="fixed">
    <origin rpy="-1.57079632679 0.0 -1.57079632679" xyz="0 0 0"/>
    <parent link="camera_depth_frame"/>
    <child link="camera_depth_optical_frame"/>
  </joint>
  <link name="camera_depth_optical_frame"/>
  <joint name="camera_rgb_joint" type="fixed">
    <origin rpy="0 0 0" xyz="0.0 0.022 0.0"/>
    <parent link="camera_link"/>
    <child link="camera_rgb_frame"/>
  </joint>
  <link name="camera_rgb_frame"/>
  <joint name="camera_rgb_optical_joint" type="fixed">
    <origin rpy="-1.57079632679 0.0 -1.57079632679" xyz="0 0 0"/>
    <parent link="camera_rgb_frame"/>
    <child link="camera_rgb_optical_frame"/>
  </joint>
  <link name="camera_rgb_optical_frame"/>
  <!-- ASUS Xtion PRO camera for simulation -->
  <gazebo reference="camera_depth_frame">
    <sensor name="camera" type="depth">
      <update_rate>20</update_rate>
      <camera>
        <horizontal_fov>1.09606677025</horizontal_fov>
        <image>
          <format>R8G8B8</format>
          <width>640</width>
          <height>480</height>
        </image>
        <clip>
          <near>0.5</near>
          <far>9</far>
        </clip>
      </camera>
      <plugin filename="libgazebo_ros_openni_kinect.so" name="camera_camera_controller">
        <imageTopicName>camera/rgb/image_raw</imageTopicName>
        <cameraInfoTopicName>camera/rgb/camera_info</cameraInfoTopicName>
        <depthImageTopicName>camera/depth/image_raw</depthImageTopicName>
        <depthImageCameraInfoTopicName>camera/depth/camera_info</depthImageCameraInfoTopicName>
        <pointCloudTopicName>camera/depth/points</pointCloudTopicName>
        <frameName>camera_depth_optical_frame</frameName>
      </plugin>
    </sensor>
  </gazebo>
  <gazebo>
    <plugin filename="libhector_gazebo_ros_imu.so" name="imu_controller">
      <updateRate>50.0</updateRate>
      <bodyName>imu_link</bodyName>
      <topicName>imu/data</topicName>
      <accelDrift>0.005 0.005 0.005</accelDrift>
      <accelGaussianNoise>0.005 0.005 0.005</accelGaussianNoise>
      <rateDrift>0.005 0.005 0.005 </rateDrift>
      <rateGaussianNoise>0.005 0.005 0.005 </rateGaussianNoise>
      <headingDrift>0.005</headingDrift>
      <headingGaussianNoise>0.005</headingGaussianNoise>
    </plugin>
  </gazebo>
  <link name="imu_link">
    <inertial>
      <mass value="0.001"/>
      <origin rpy="0 0 0" xyz="0 0 0"/>
      <inertia ixx="1e-09" ixy="0.0" ixz="0.0" iyy="1e-09" iyz="0.0" izz="1e-09"/>
    </inertial>
  </link>
  <joint name="imu_joint" type="fixed">
    <parent link="trunk"/>
    <child link="imu_link"/>
  </joint>
  <!-- <xacro:include filename="$(find velodyne_description)/urdf/VLP-16.urdf.xacro"/>
    <xacro:VLP-16 parent="trunk" name="velodyne" topic="velodyne_points" hz="10" samples="1024" gpu="false" lasers="16" max_range="100">
        <origin xyz="0 0 ${base_z_length / 2}" rpy="0 0 0" />
    </xacro:VLP-16>

    <xacro:include filename="$(find champ_arm_description)/urdf/champ_arm.urdf.xacro" />
    <xacro:champ_arm parent="trunk">
        <origin xyz="0.07 0.0 ${base_z_length / 2}" rpy="0 0 0"/>
    </xacro:champ_arm> -->
</robot>
